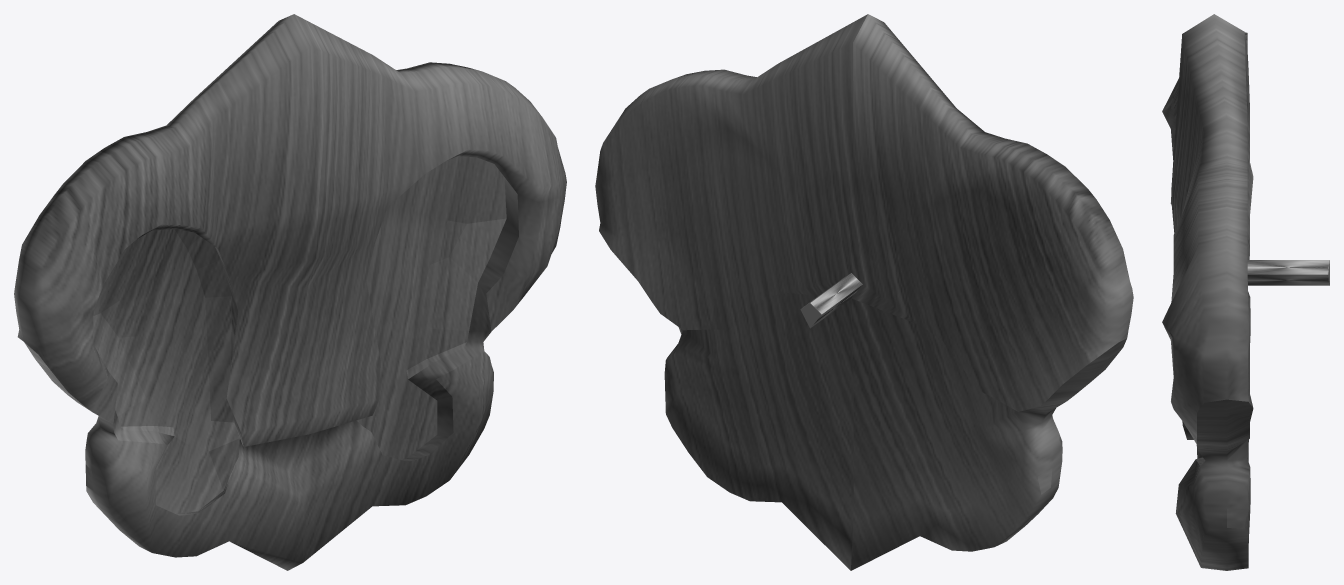
The model's file is Silver Bs Stub Earring.fbx.
3 renders of one model, left to right at view 1: azimuth 30°, elevation 25°; view 2: azimuth 150°, elevation 25°; view 3: azimuth 270°, elevation 25°, orthographic. The views are drawn at different scales.
Visible parts, largest first — view 1: SILVER_BS_FLEUR_STUD_EARRING5; view 2: SILVER_BS_FLEUR_STUD_EARRING5; view 3: SILVER_BS_FLEUR_STUD_EARRING5.
Part boxes in pixels (<box>): SILVER_BS_FLEUR_STUD_EARRING5: <box>14,14,566,570</box>; SILVER_BS_FLEUR_STUD_EARRING5: <box>595,14,1133,570</box>; SILVER_BS_FLEUR_STUD_EARRING5: <box>1162,14,1329,570</box>.
Size of the model in its own units: 6.98 by 6.95 by 1.94.
